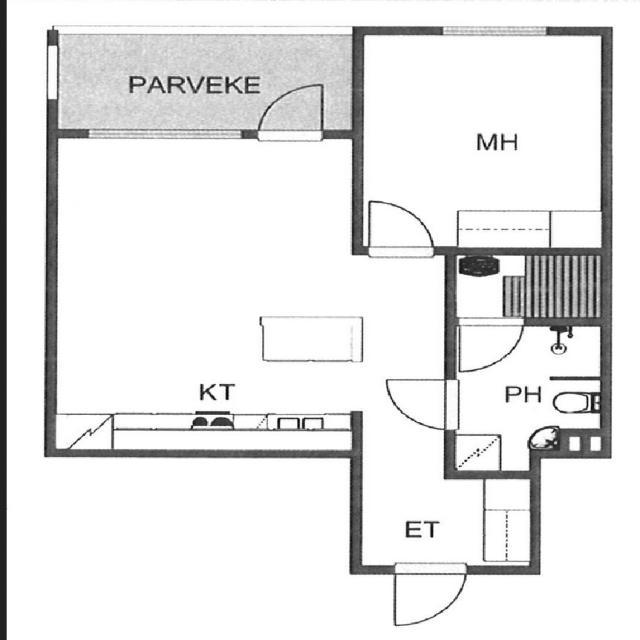door: (388, 560, 472, 632), (361, 195, 442, 265), (376, 371, 459, 433), (450, 313, 530, 372), (256, 81, 328, 146)
window: (78, 124, 246, 146), (436, 20, 551, 47), (40, 41, 65, 106)
zone: (50, 132, 363, 451), (361, 26, 610, 250), (444, 322, 609, 471), (357, 453, 537, 573), (447, 250, 607, 325), (258, 317, 366, 364), (79, 123, 249, 144)
